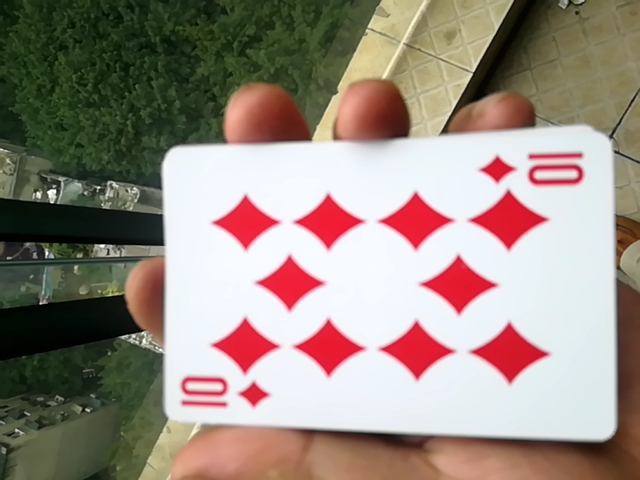fk 10: (156, 139, 614, 453)
